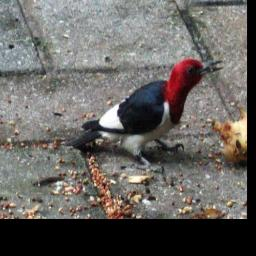Woodpecker: (62, 52, 229, 180)
